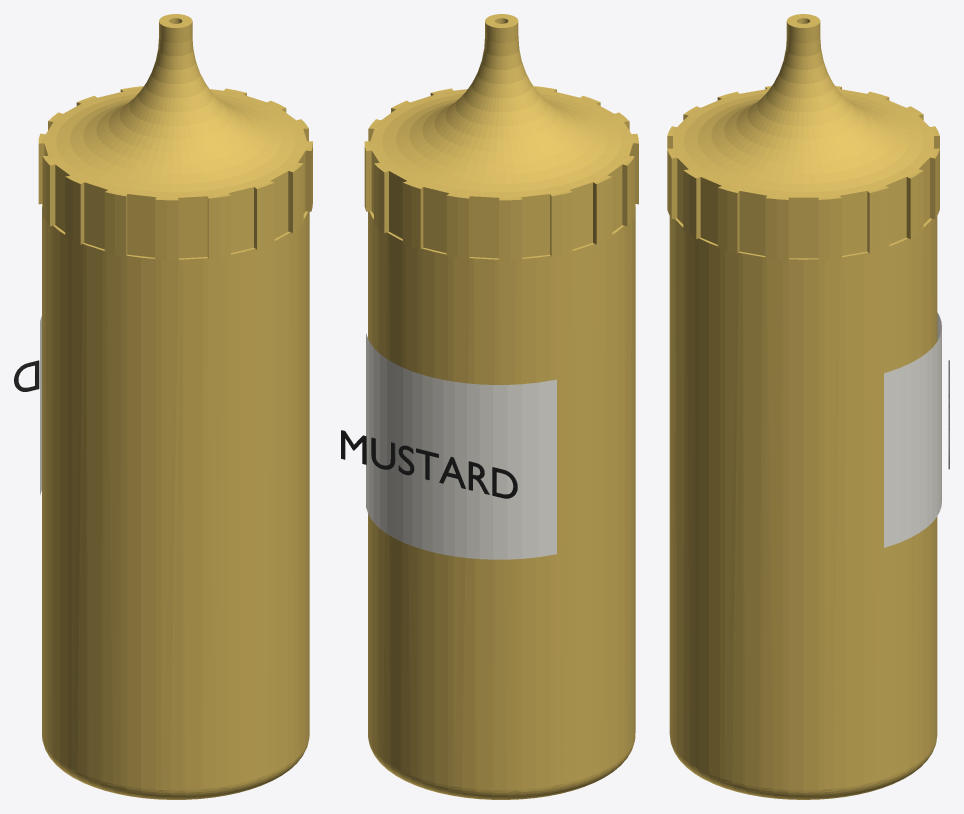
The model's file is MustardBottle.dae.
3 renders of one model, left to right at view 1: azimuth 30°, elevation 25°; view 2: azimuth 150°, elevation 25°; view 3: azimuth 270°, elevation 25°, orthographic.
Visible parts, largest first — view 1: MustardBottle; view 2: MustardBottle, MustardBottle_label_panel, MustardBottle_label_text; view 3: MustardBottle, MustardBottle_label_panel.
Part boxes in pixels (<box>): MustardBottle: <box>38,14,312,799</box>; MustardBottle: <box>364,14,638,799</box>; MustardBottle_label_panel: <box>366,333,556,559</box>; MustardBottle_label_text: <box>341,430,517,498</box>; MustardBottle: <box>667,14,939,799</box>; MustardBottle_label_panel: <box>884,312,941,547</box>.
Size of the model in its own units: 0.0815 by 0.0845 by 0.24.
